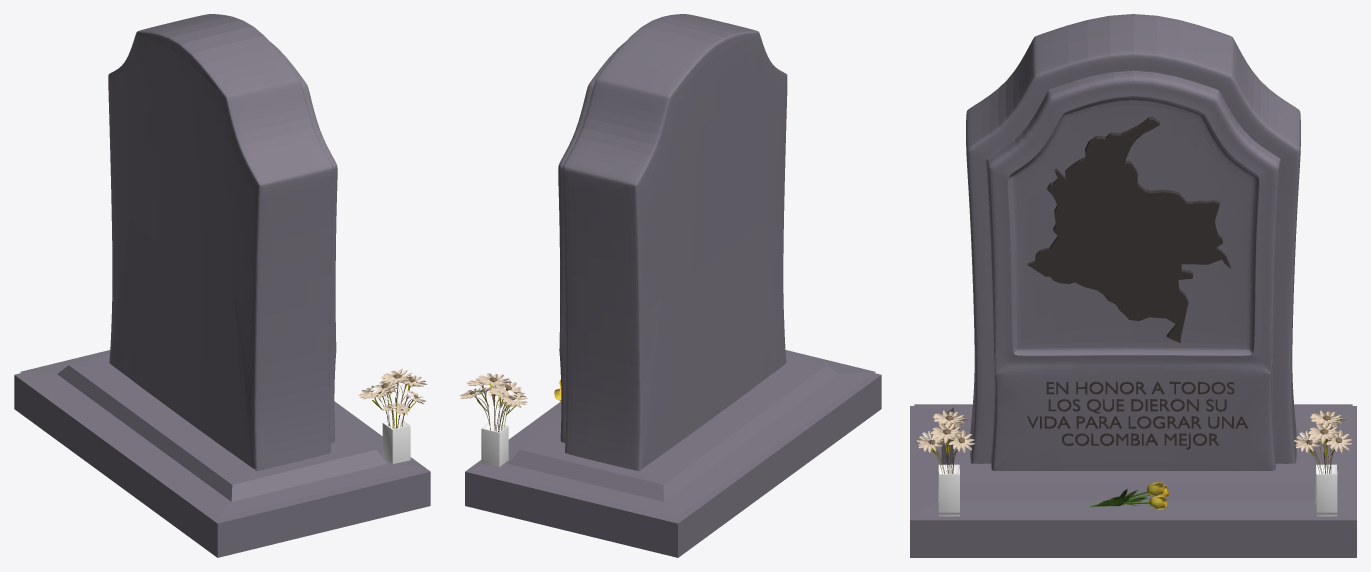
The model's file is grave.gltf.
3 renders of one model, left to right at view 1: azimuth 30°, elevation 25°; view 2: azimuth 150°, elevation 25°; view 3: azimuth 270°, elevation 25°, orthographic. The views are drawn at different scales.
Visible parts, largest first — view 1: Cube.003, Cube.001, skp764C_001.001; view 2: Cube.003, Cube.001, skp764C_001; view 3: Cube.003, Cube.001, COLOMBIA, Text, skp764C_001, skp764C_001.001.
Part boxes in pixels (box(x1,y1,x2,y2)): Cube.003: box(108, 14, 337, 470); Cube.001: box(14, 350, 430, 557); skp764C_001.001: box(358, 368, 427, 463); Cube.003: box(558, 14, 787, 470); Cube.001: box(465, 350, 881, 557); skp764C_001: box(460, 373, 527, 467); Cube.003: box(966, 14, 1300, 470); Cube.001: box(910, 404, 1356, 557); COLOMBIA: box(1027, 117, 1230, 342); Text: box(1027, 381, 1247, 449); skp764C_001: box(1294, 410, 1351, 516); skp764C_001.001: box(916, 410, 974, 516).
Bounding box in the file's own units: 1.07 × 1.92 × 1.67.
Materials: 25 (2 with a texture image).
